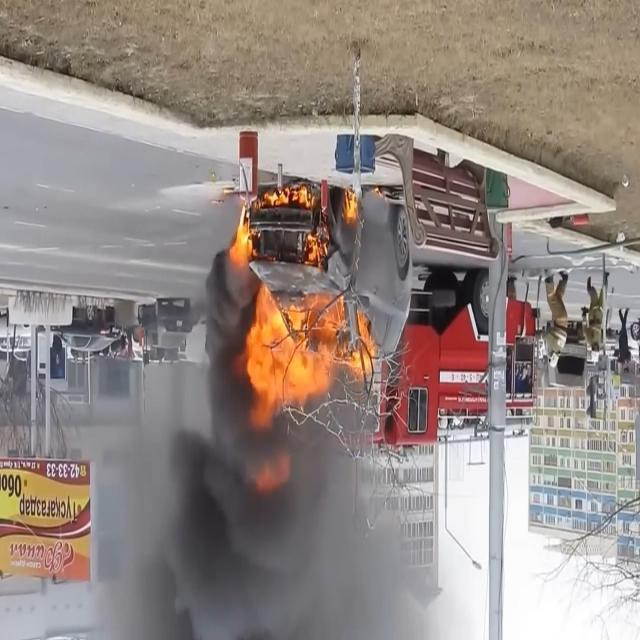fire: (225, 166, 387, 534)
